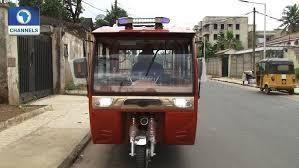keke: (260, 57, 296, 96)
